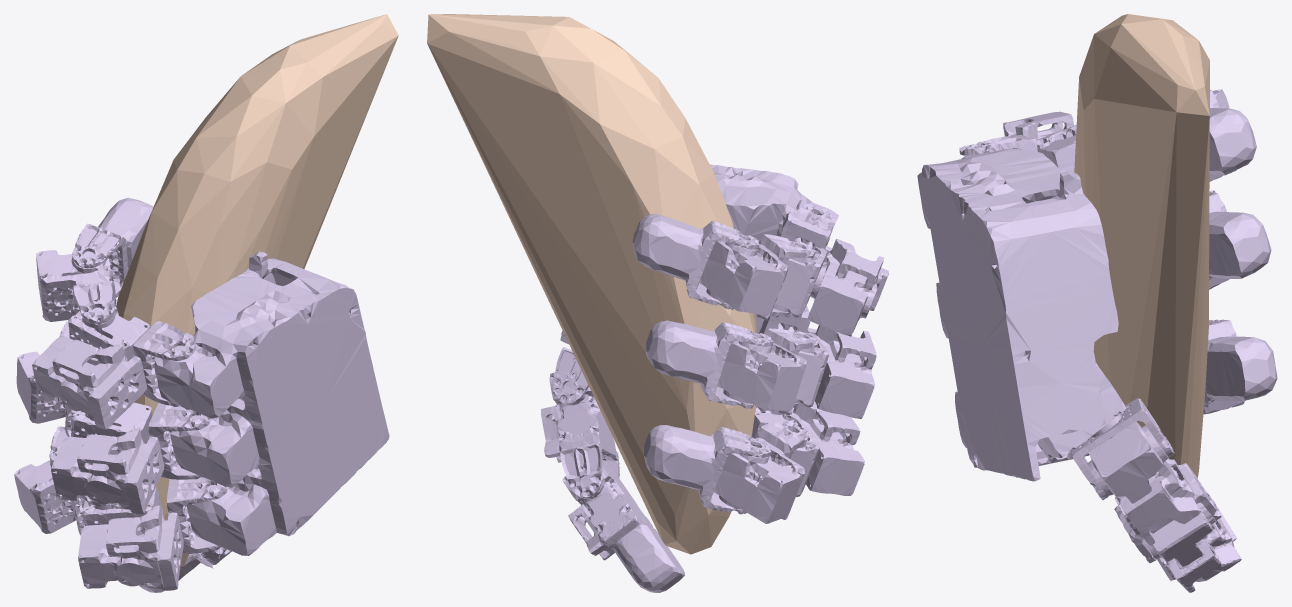
File: 2a8acc5de71720-closed.glb
3 renders of one model, left to right at view 1: azimuth 30°, elevation 25°; view 2: azimuth 150°, elevation 25°; view 3: azimuth 270°, elevation 25°, orthographic. The views are drawn at different scales.
Parts seen in each view (by area): view 1: LEAP_hand, world; view 2: world, LEAP_hand; view 3: LEAP_hand, world.
Boxes of the visible parts, x1,y1,x2,y2 form: LEAP_hand: (14,197,389,592); world: (116,14,398,569); world: (427,14,756,554); LEAP_hand: (541,164,888,592); LEAP_hand: (917,89,1277,592); world: (1074,14,1209,477).
Bounding box in the file's own units: 0.2204 × 0.2781 × 0.1442.
